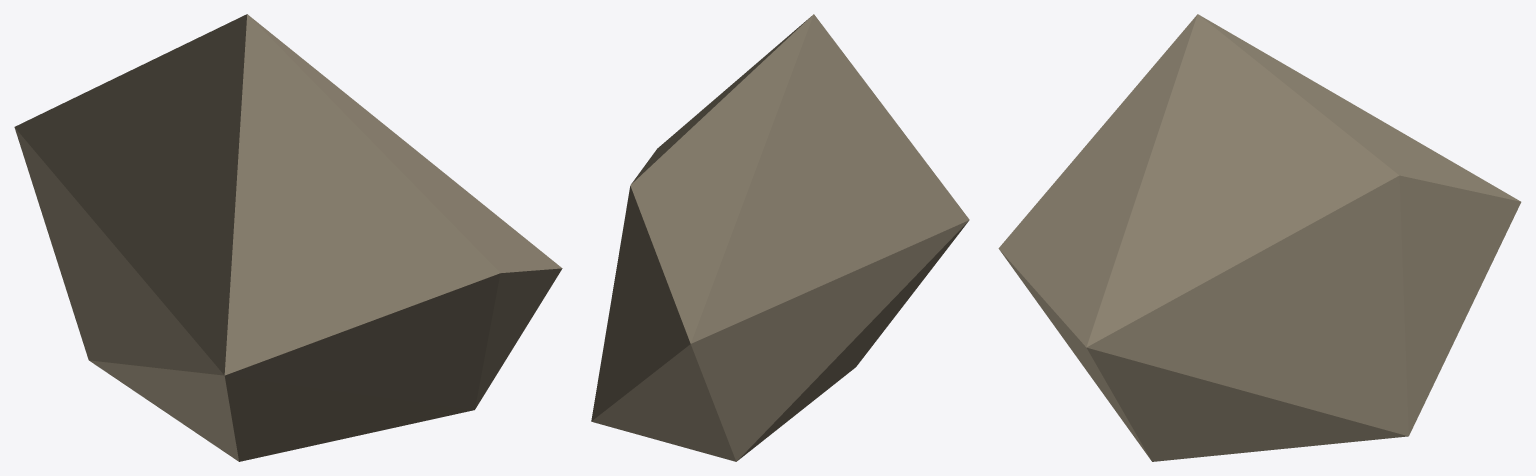
Rendered from Stone06.fbx.
The picture shows the model from 3 angles, left to right: view 1: azimuth 30°, elevation 25°; view 2: azimuth 150°, elevation 25°; view 3: azimuth 270°, elevation 25°; orthographic projection. The views are drawn at different scales.
Visible parts, largest first — view 1: Stone06; view 2: Stone06; view 3: Stone06.
Part boxes in pixels (box(x1,y1,x2,y2)): Stone06: box(14, 14, 562, 461); Stone06: box(591, 14, 969, 461); Stone06: box(998, 14, 1521, 461).
Size of the model in its own units: 0.5835 by 0.6777 by 0.8738.
